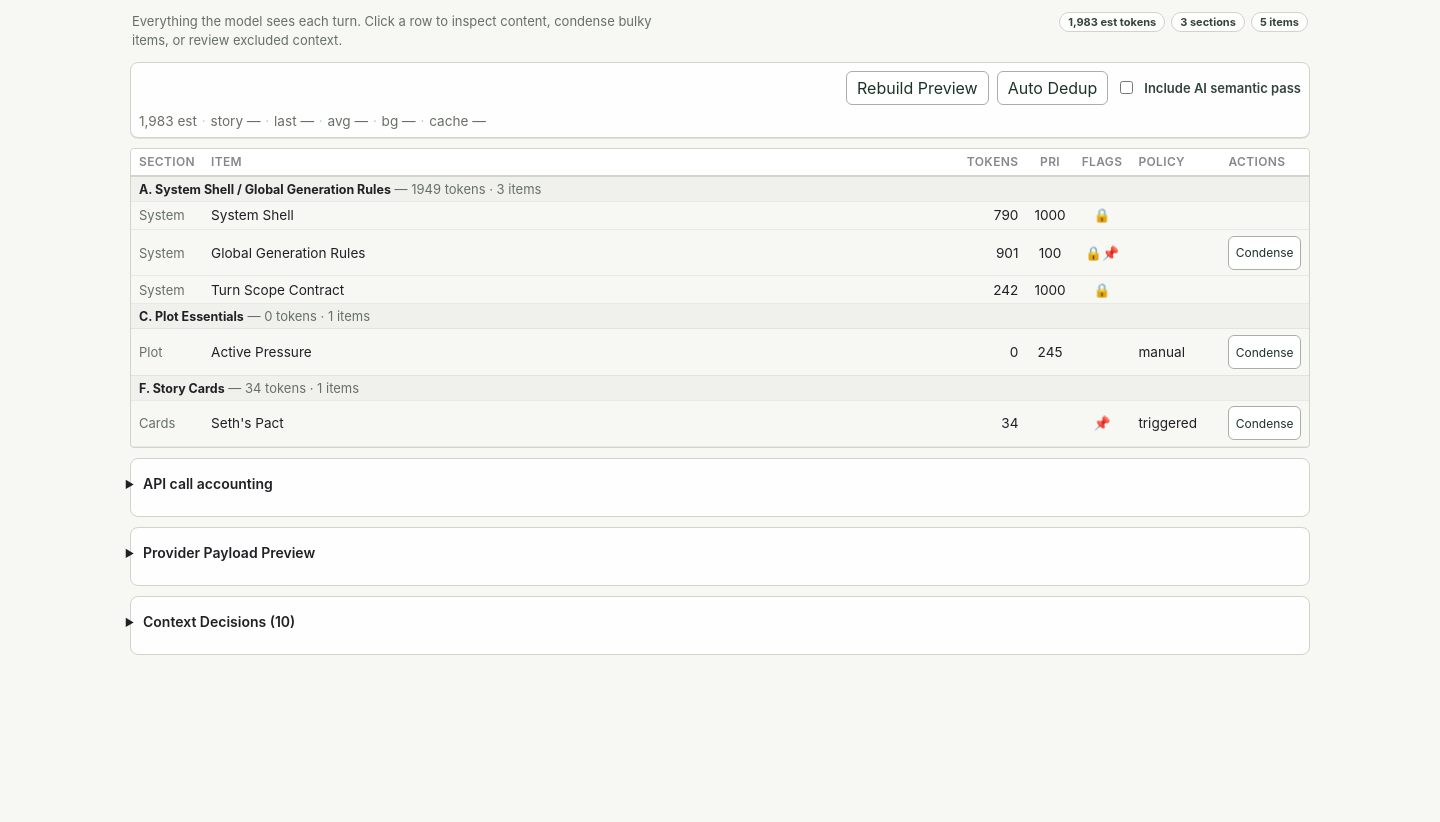
Test: ContextPreviewPage condense › updates compact Story Card context immediately after accepting a condensed draft
Check: the text "Seth's Pact" is shown, box [211, 415, 284, 431]
Click the button "Condense" in the row of "Seth's Pact" at (1265, 423), box [1228, 406, 1301, 440]
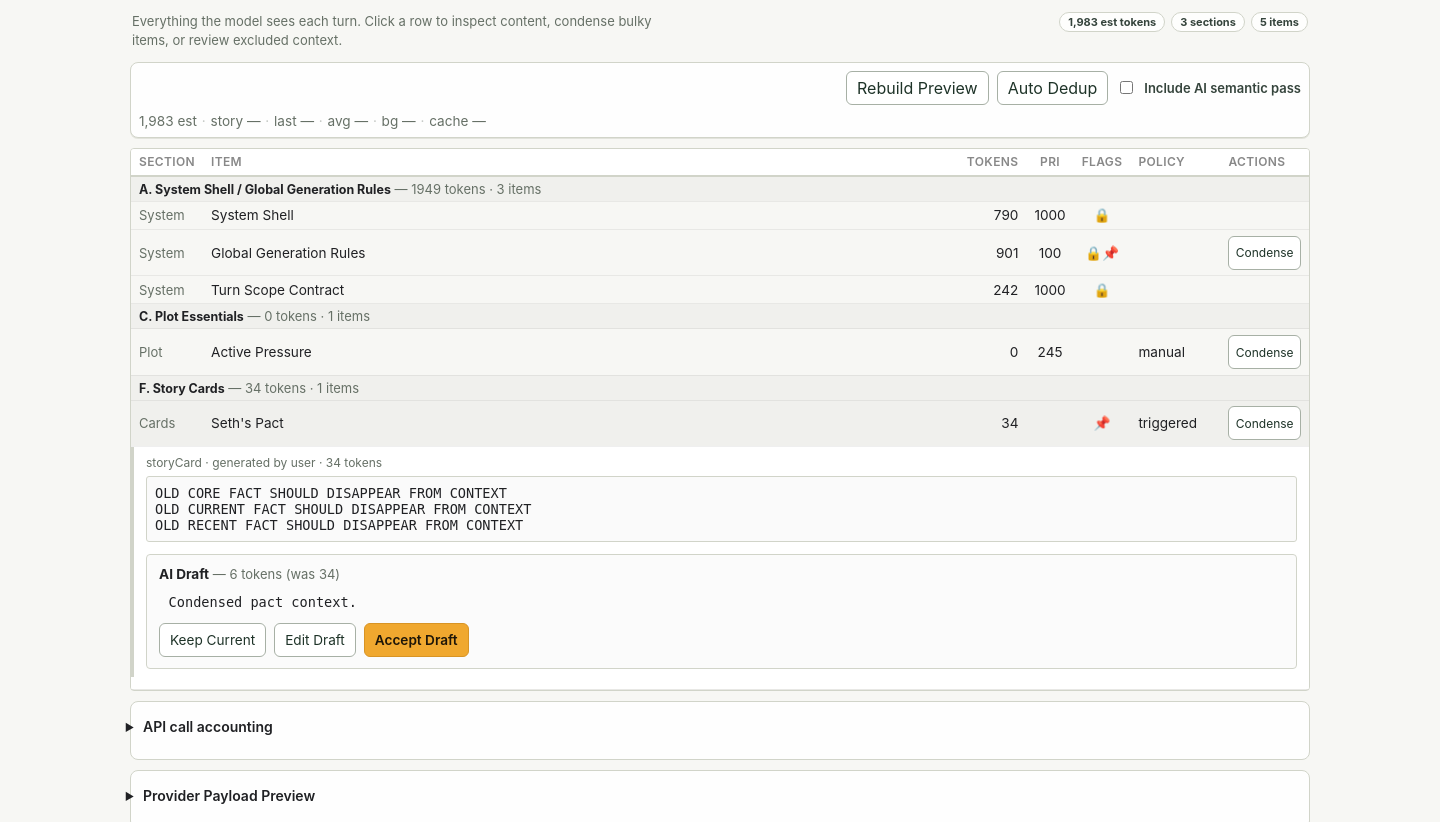
Click the button "Accept Draft" at (416, 640), box [364, 623, 468, 657]
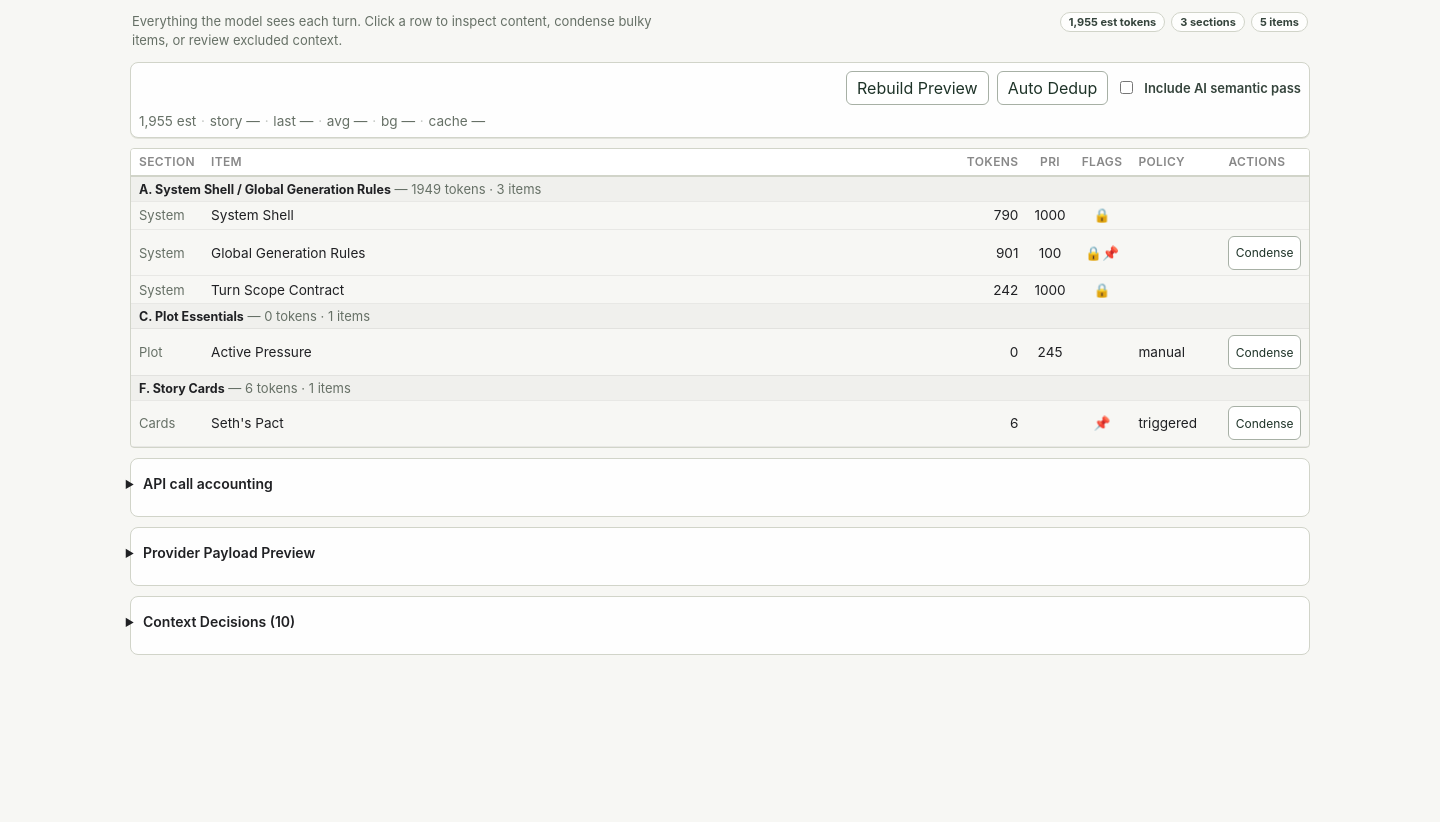
Check: the text "OLD CORE FACT SHOULD DISAPPEAR" is gone
Check: the text "OLD CURRENT FACT SHOULD DISAPPEAR" is gone
Check: the text "OLD RECENT FACT SHOULD DISAPPEAR" is gone
